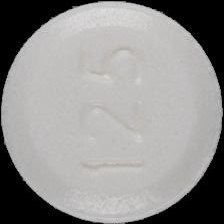0093-3122: (0, 0, 224, 224)
